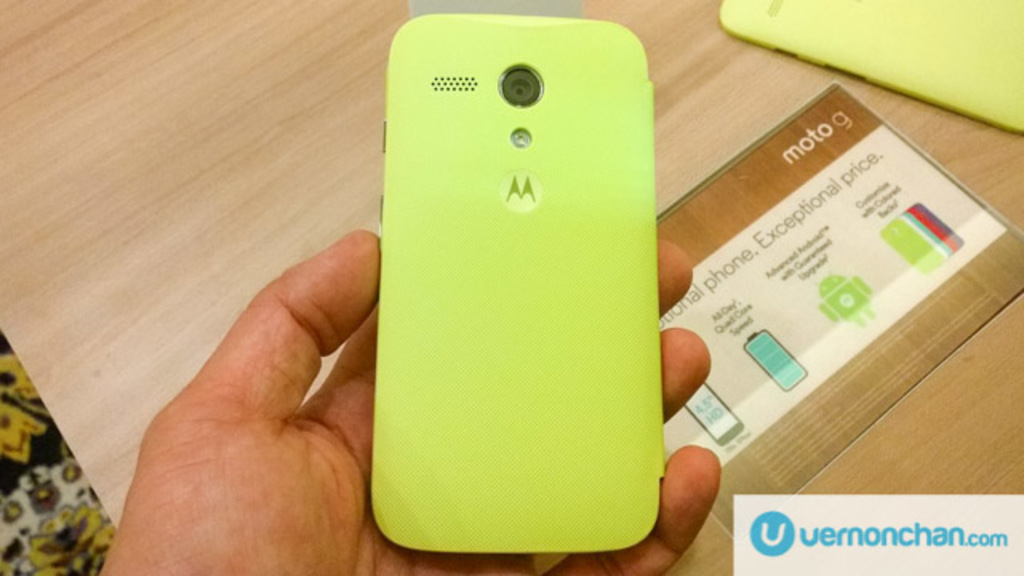mobile phone: (364, 9, 681, 534)
